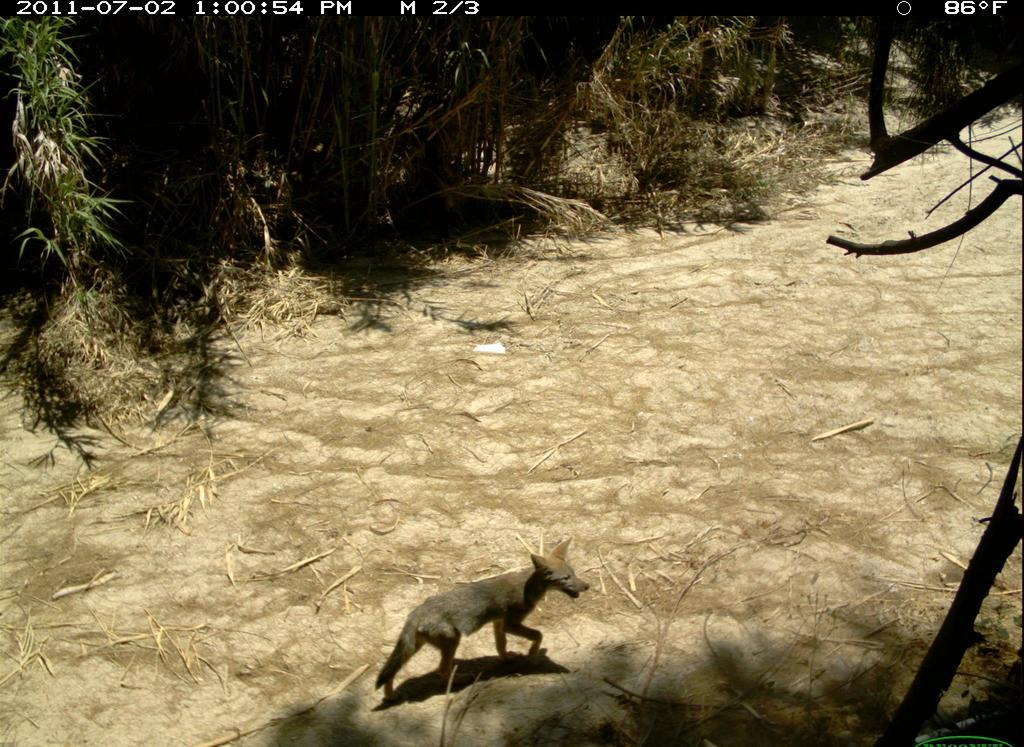coyote: (364, 536, 596, 711)
